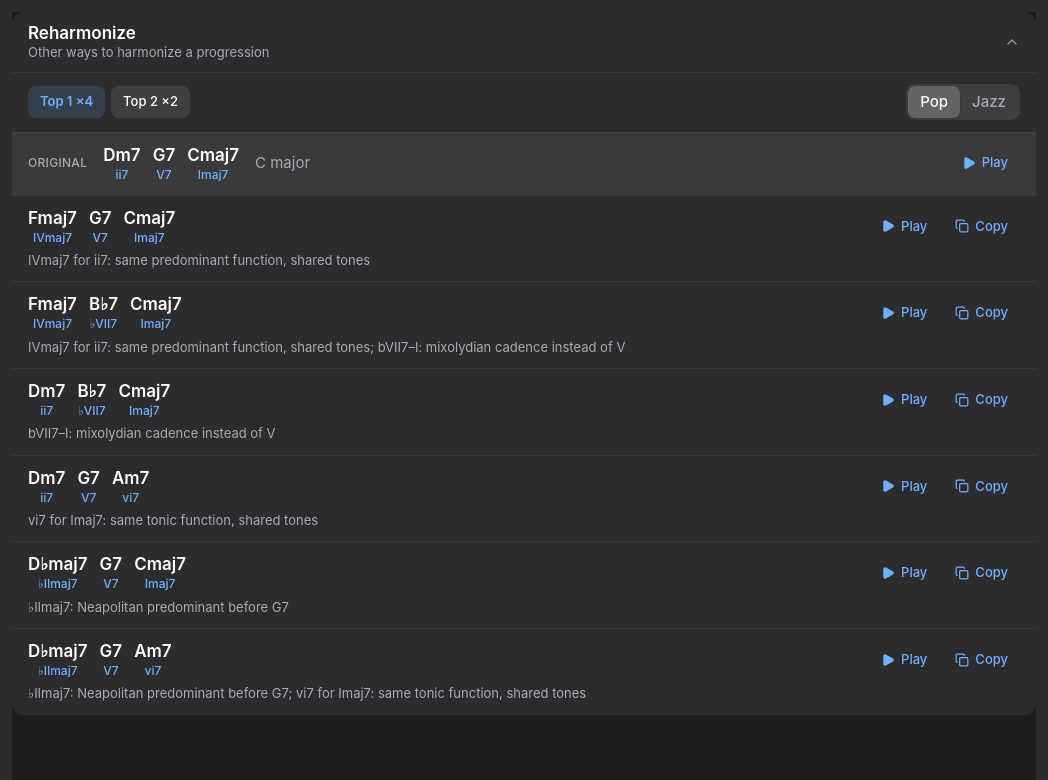
it: ReharmPanel › plays an alternative chord by chord and can stop it
Click the radio button labelled "Jazz".
click(989, 102)  # box [960,86,1018,118]
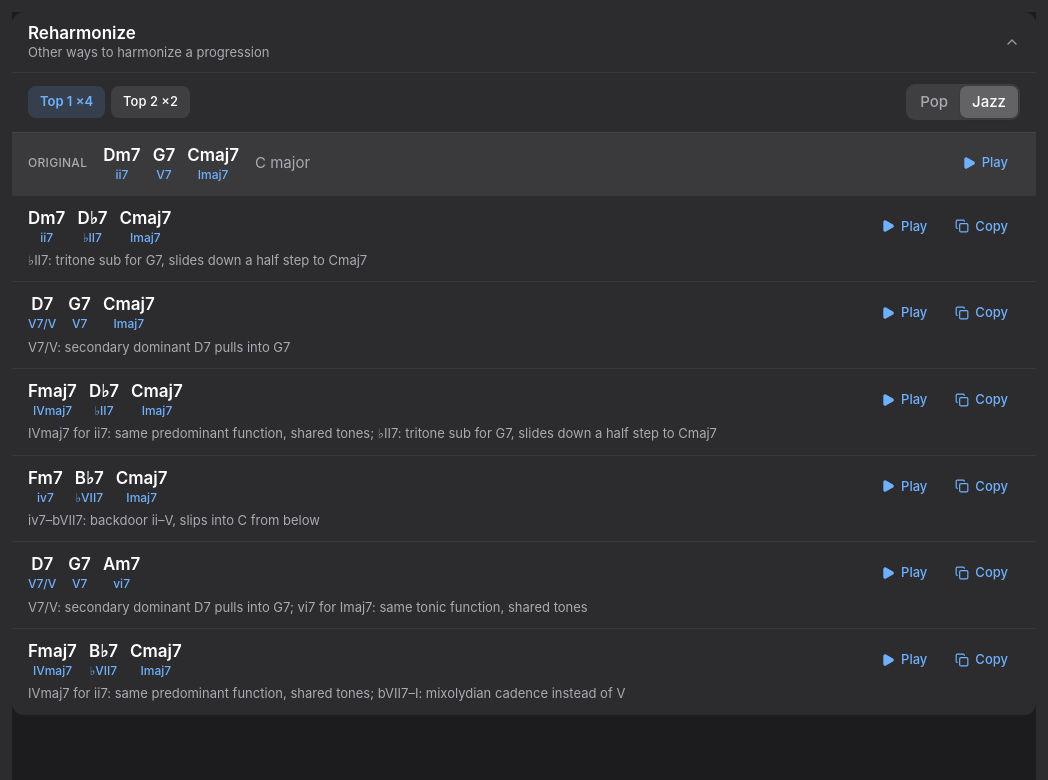
Click the button with aria-label "Play alternative 1".
click(904, 226)  # box [869,210,939,242]
Wait 500 ms
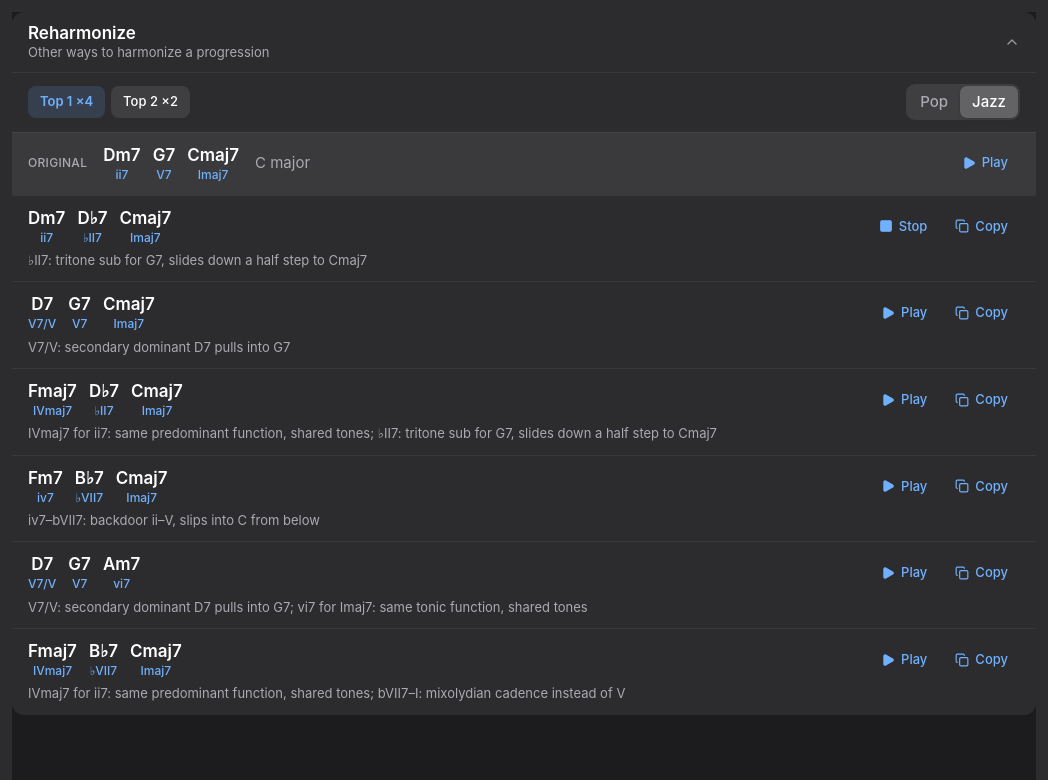
Expected: the button with aria-label "Play alternative 1" reads "Stop"
Click the button with aria-label "Play alternative 1".
click(903, 226)  # box [867,210,939,242]
Wait 2000 ms
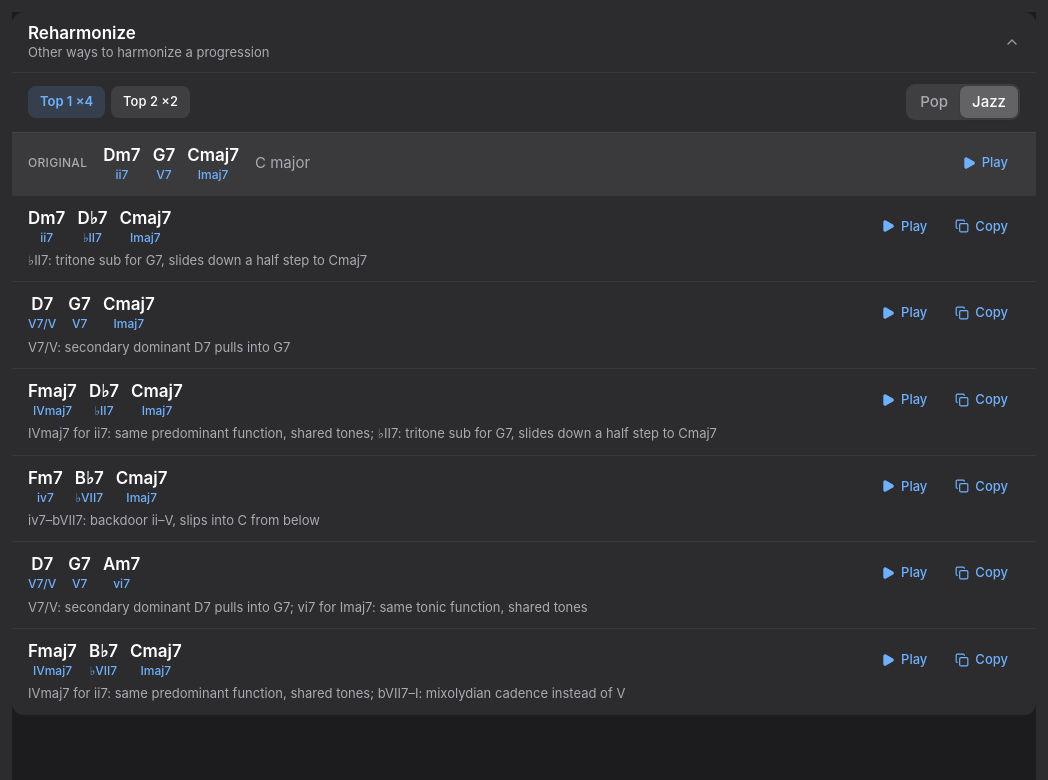
Expected: the button with aria-label "Play alternative 1" reads "Play", [869,210,939,242]
